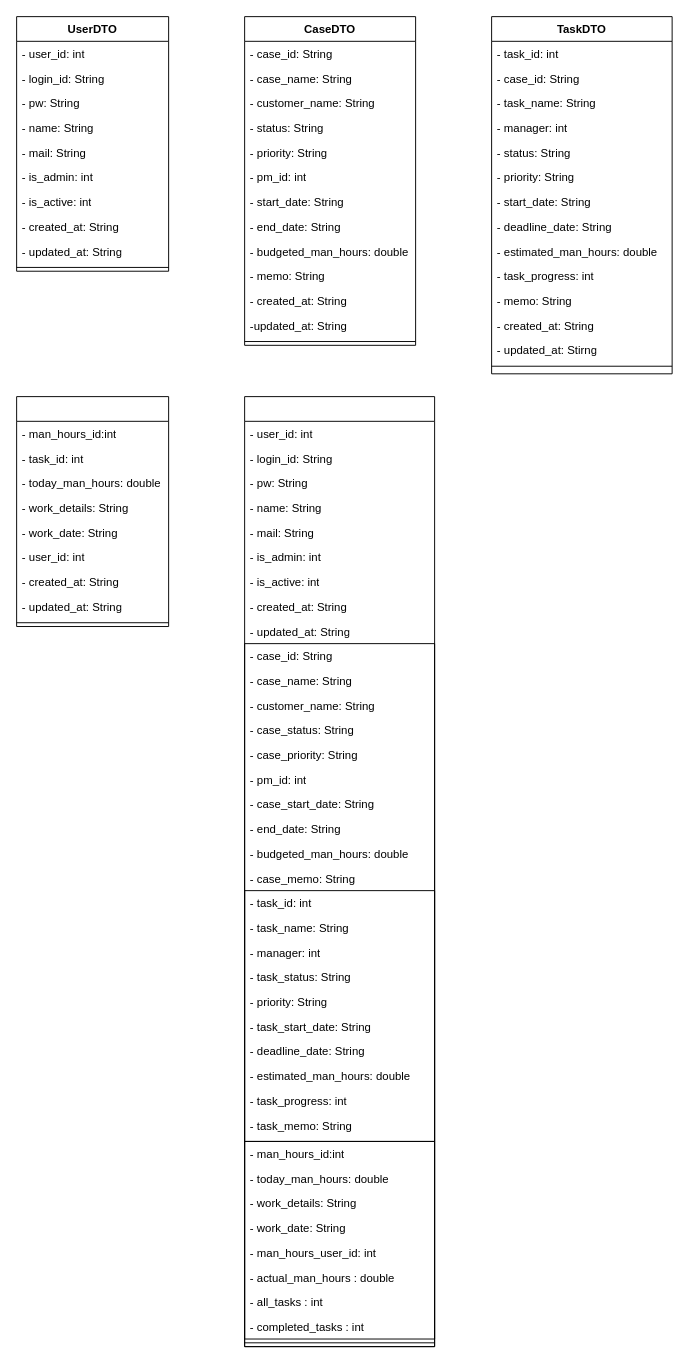
Image size: 689x1363. Some labels were removed from this diagram. Here are the shapes that lost their labels. From the top down, the box of each, then its label:
(16, 396, 169, 627): ManHourDTO
(244, 396, 435, 1347): AllDTO
